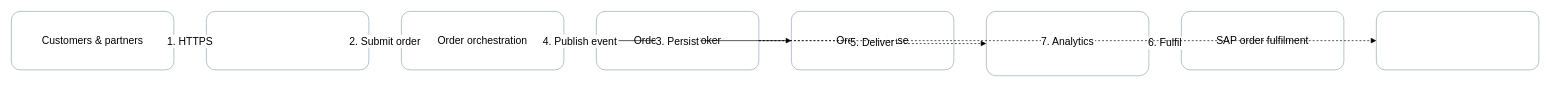
Some shapes in this 1550 by 87 pixel diagram are drawn without their labels. Each missing label, with the centre of its shape:
Databricks analytics: point (1457, 40)
MuleSoft integration API: point (1067, 43)
Public API ingress: point (287, 40)
